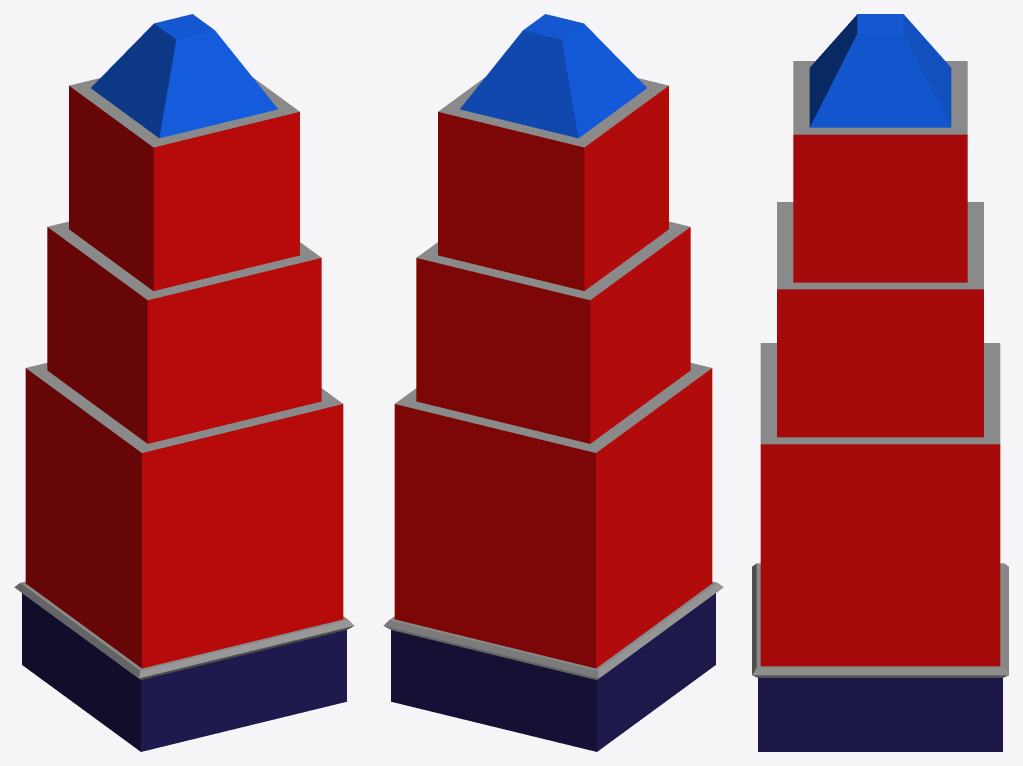
Rendered from common2.FBX.
3 views of the same model, side by side, from view 1: azimuth 30°, elevation 25°; view 2: azimuth 150°, elevation 25°; view 3: azimuth 270°, elevation 25° (orthographic). The views are drawn at different scales.
Parts seen in each view (by area): view 1: Box007; view 2: Box007; view 3: Box007.
Boxes of the visible parts, x1=… form: Box007: x1=14, y1=14, x2=354, y2=751; Box007: x1=383, y1=14, x2=723, y2=751; Box007: x1=752, y1=14, x2=1008, y2=751.
Bounding box in the file's own units: 3147 × 9141 × 3147.
